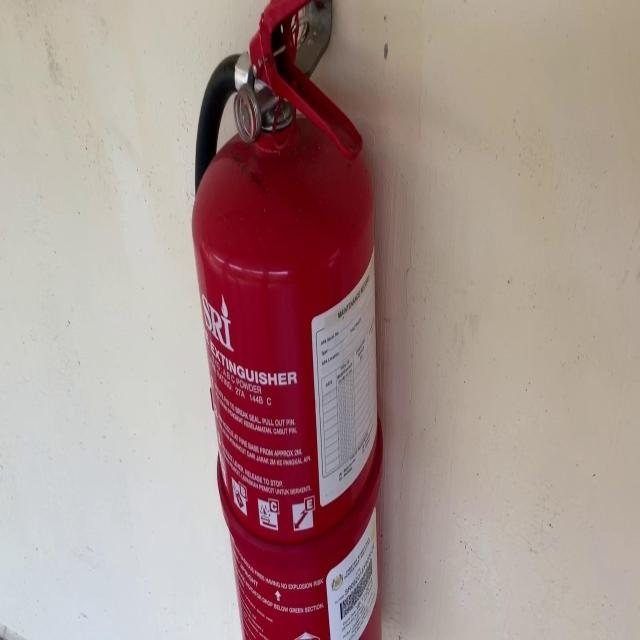fire_extinguisher: (189, 0, 385, 639)
